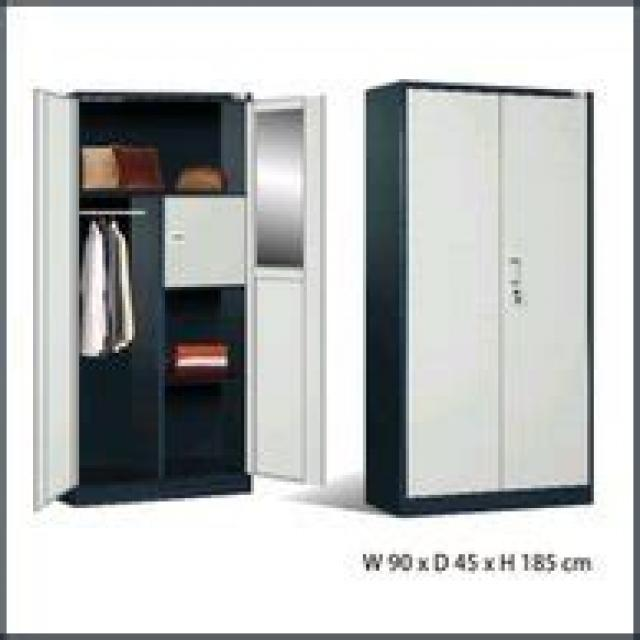Closet: (26, 78, 336, 525), (357, 74, 604, 524)
